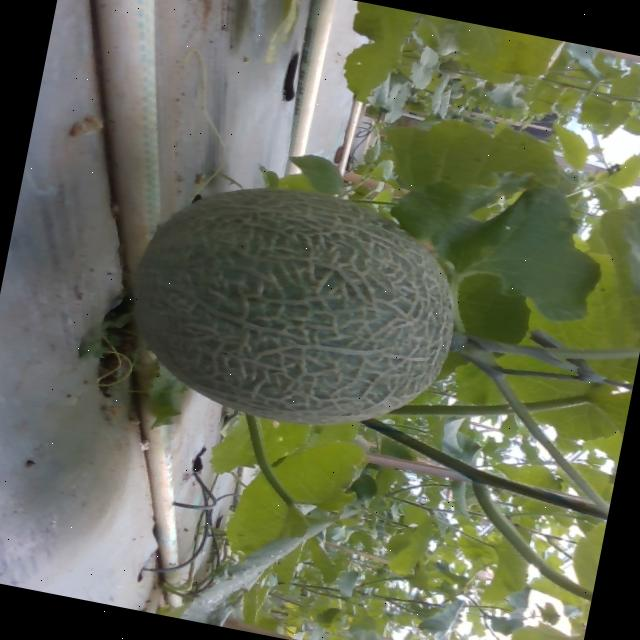melon: (133, 189, 452, 425)
